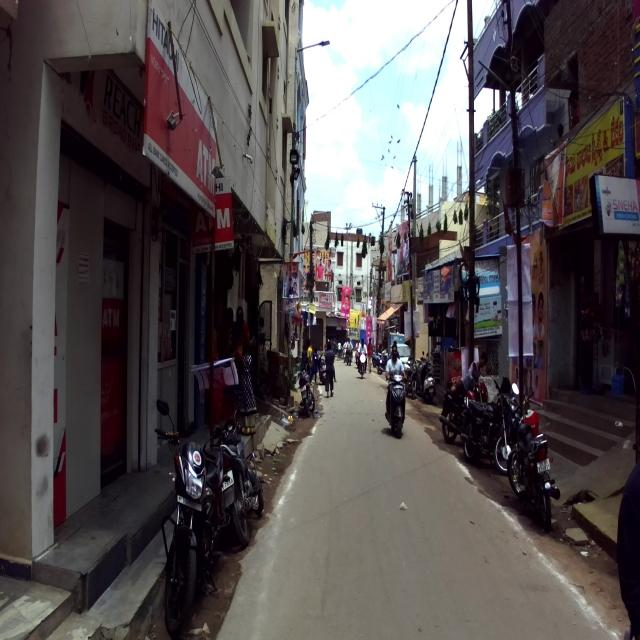motorcycle_Hero: (213, 396, 264, 549), (510, 379, 560, 533), (460, 374, 521, 476), (438, 362, 488, 442)
motorcycle_Honda: (153, 396, 231, 634)
scooter: (384, 370, 407, 436)
